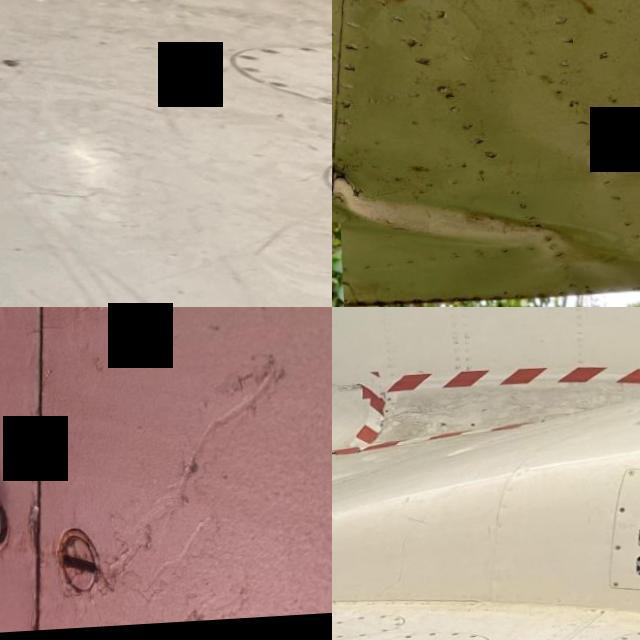Crack: (332, 168, 370, 214)
Dent: (332, 79, 637, 307)
